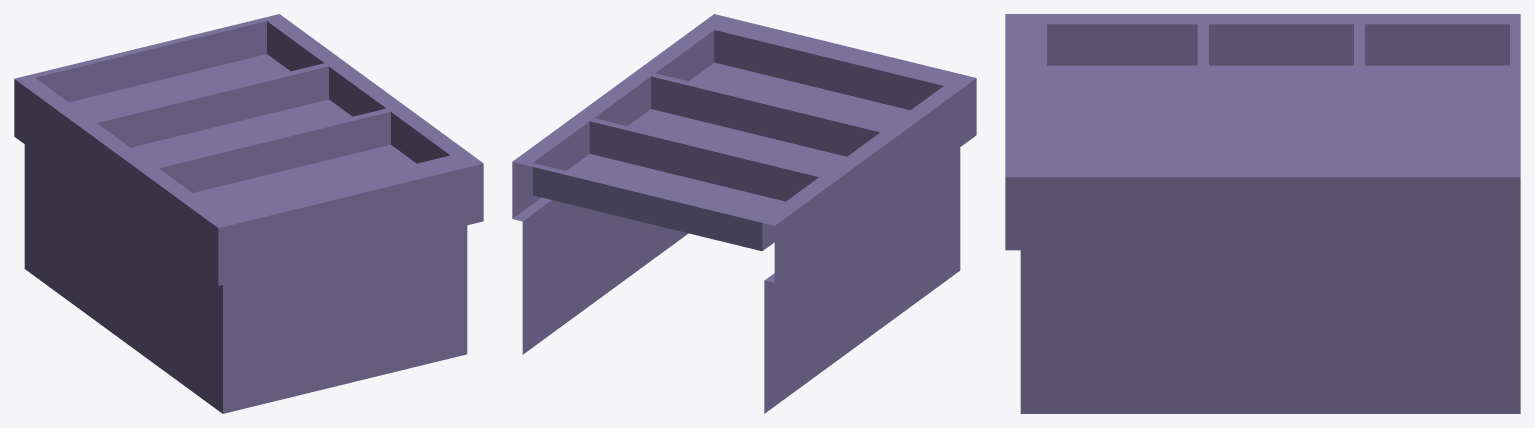
Rendered from Comedero_Largo_P3.fbx.
3 renders of one model, left to right at view 1: azimuth 30°, elevation 25°; view 2: azimuth 150°, elevation 25°; view 3: azimuth 270°, elevation 25°, orthographic. The views are drawn at different scales.
Parts seen in each view (by area): view 1: Comedero_Largo; view 2: Comedero_Largo; view 3: Comedero_Largo.
Part boxes in pixels (x1,y1,x2,y2): Comedero_Largo: [14, 14, 483, 413]; Comedero_Largo: [512, 14, 976, 413]; Comedero_Largo: [1005, 14, 1520, 413].
Bounding box in the file's own units: 76 × 52.74 × 101.
